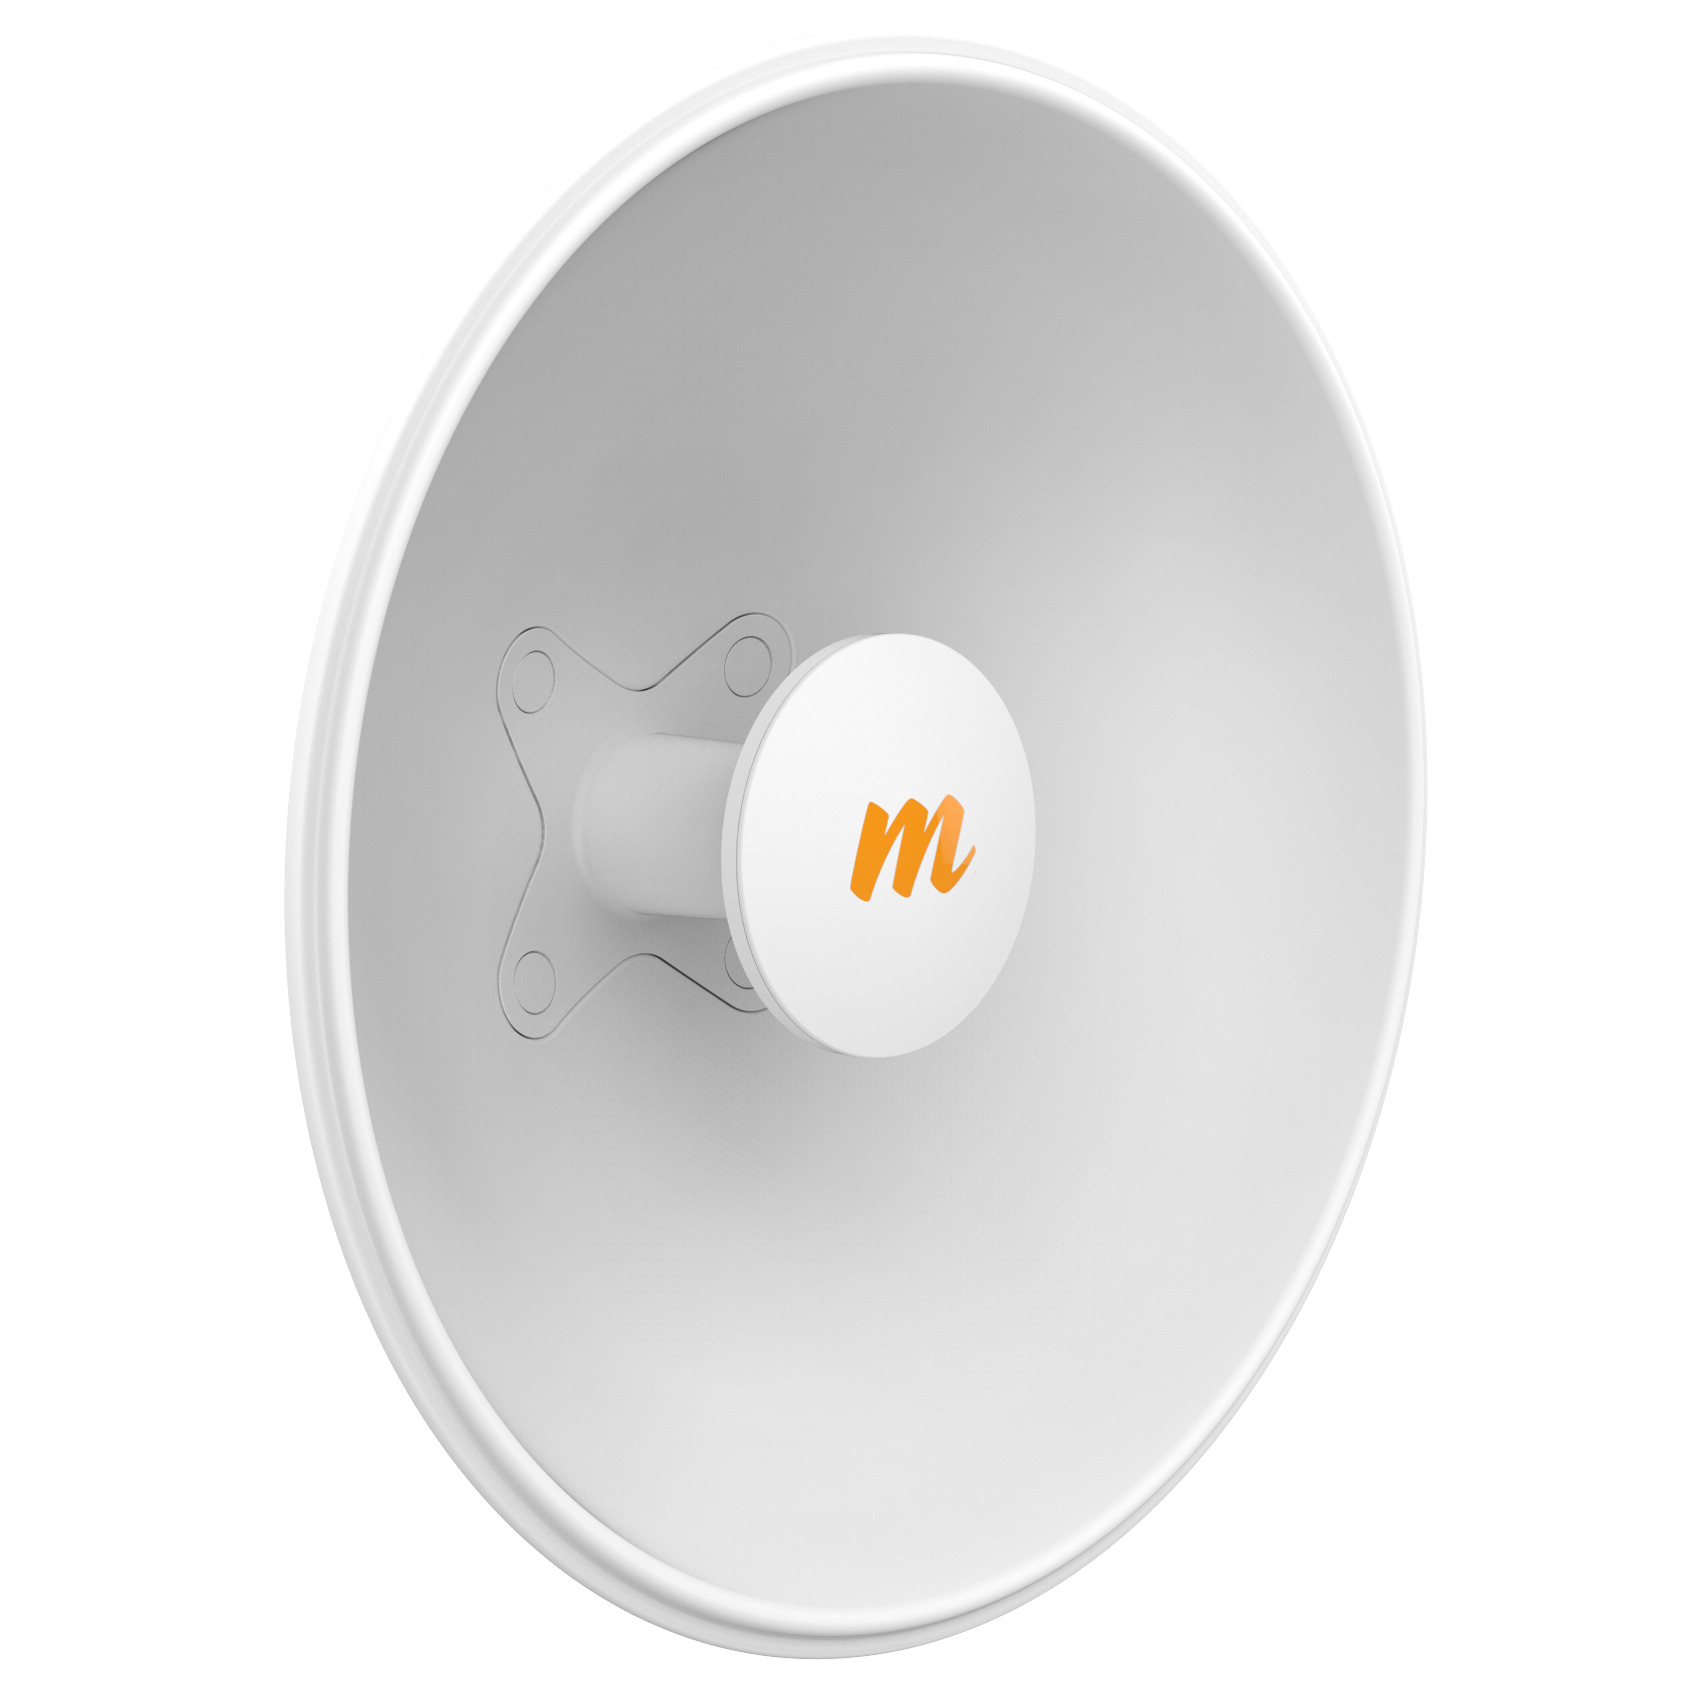ba: (170, 22, 1434, 1680)
